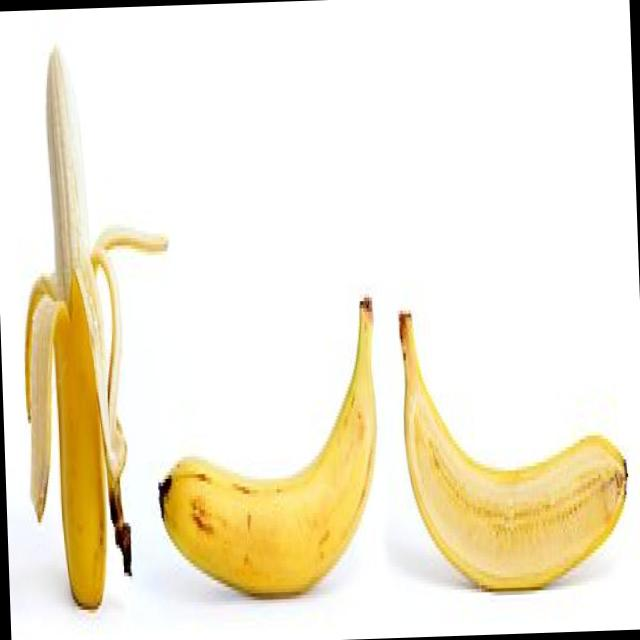Pisang: (12, 38, 180, 608), (150, 290, 383, 600), (396, 299, 632, 595)
